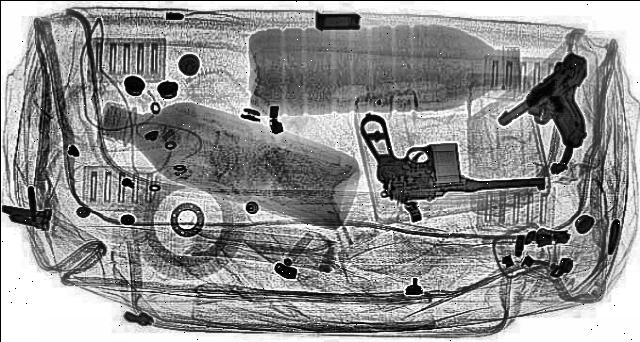Gun: (347, 96, 551, 202), (488, 58, 640, 142)
